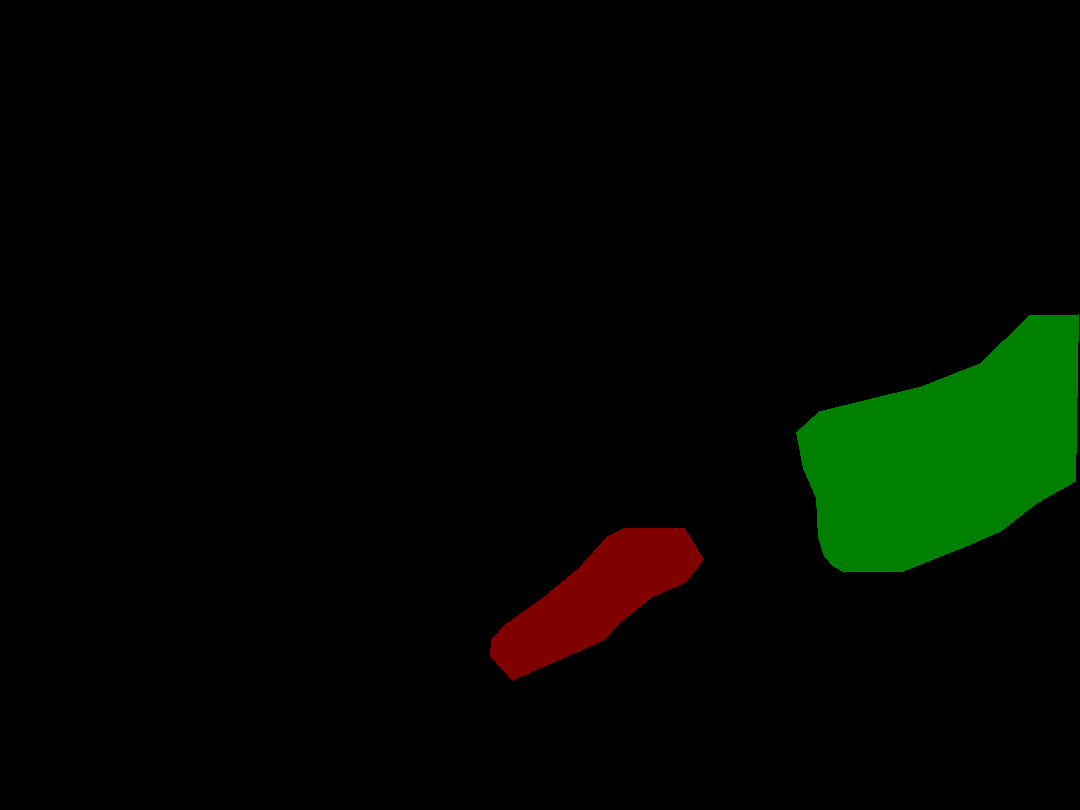fire: (796, 314, 1078, 572), (490, 528, 703, 680)
